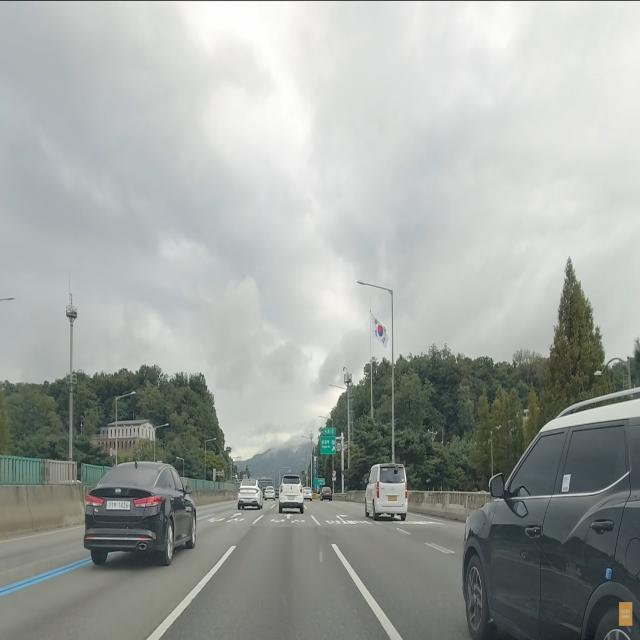forward: (257, 513, 316, 519)
